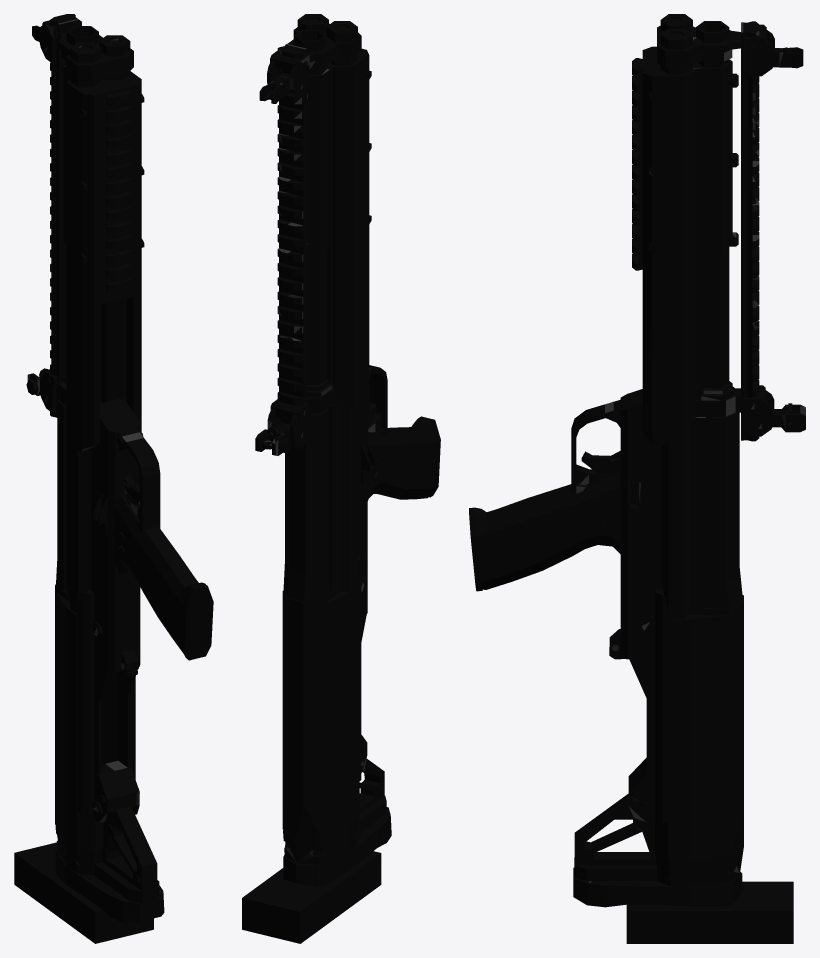
The model's file is KSG__RecoilPad_Rubber.fbx.
The picture shows the model from 3 angles, left to right: view 1: azimuth 30°, elevation 25°; view 2: azimuth 150°, elevation 25°; view 3: azimuth 270°, elevation 25°; orthographic projection. The views are drawn at different scales.
Visible parts, largest first — view 1: asset_KSG.001; view 2: asset_KSG.001; view 3: asset_KSG.001.
Boxes of the visible parts, box(x1,y1,x2,y2) form: asset_KSG.001: box(14, 14, 213, 943); asset_KSG.001: box(242, 14, 440, 943); asset_KSG.001: box(469, 14, 805, 943).
Size of the model in its own units: 0.03 by 0.411 by 0.139.
